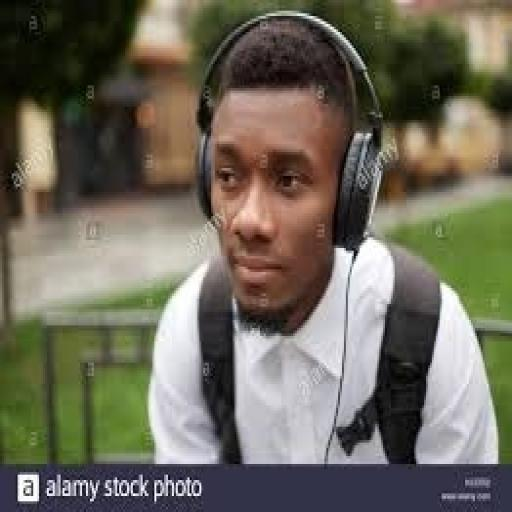listening_to_music: (145, 8, 502, 467)
